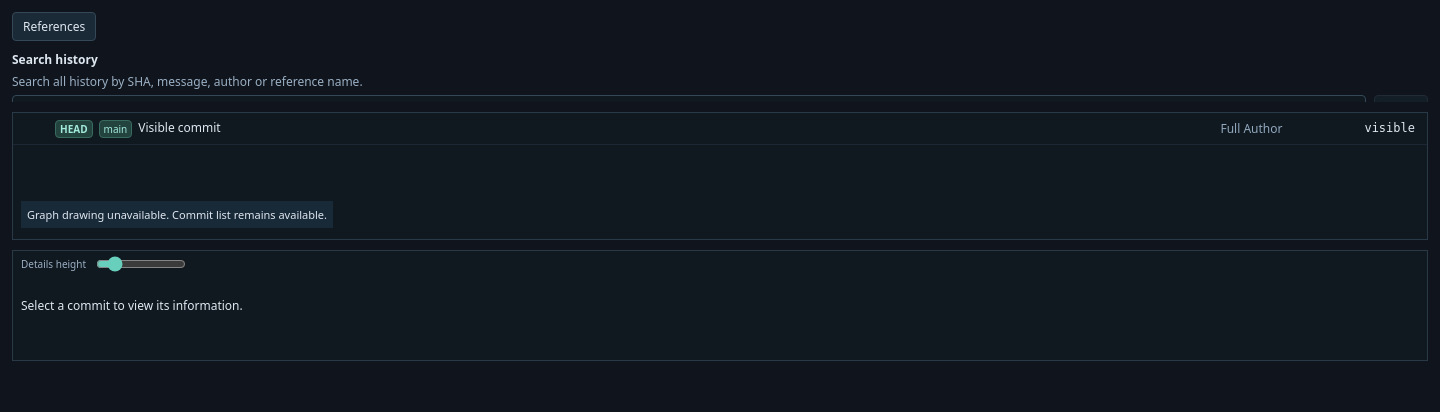
Test: T006-F01 retains stable focus after graph Solo and deferred new snapshot
Click the button with aria-label "Actions for refs/heads/main" at (115, 129), box [99, 120, 132, 138]
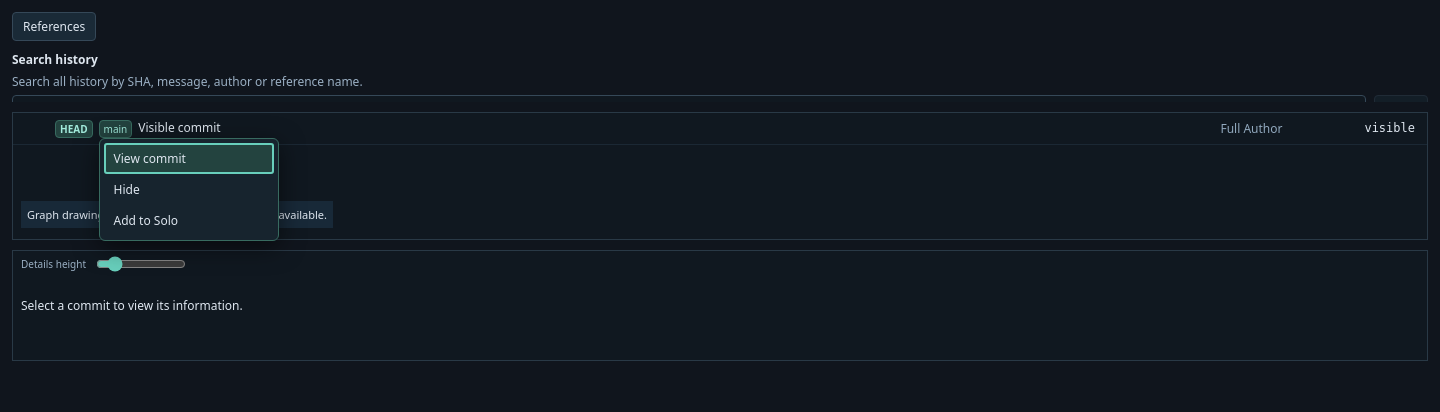
Click the menu item "Add to Solo" at (189, 220), box [104, 205, 274, 236]
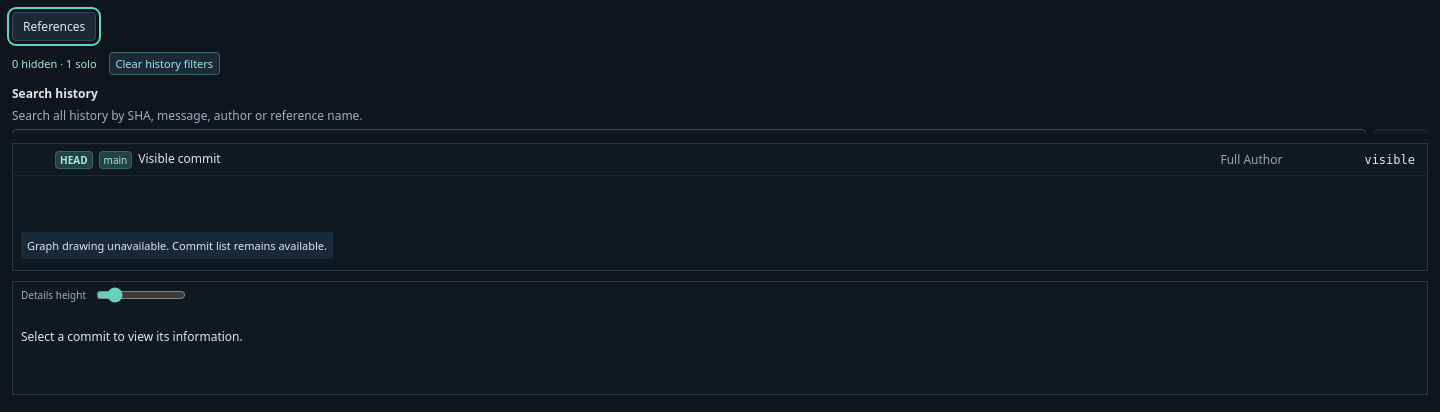
Expected: the menu is gone
